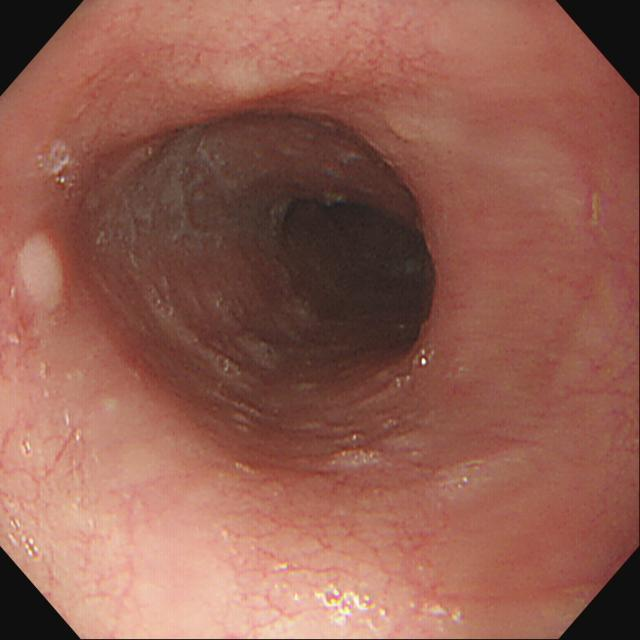A: (158, 40, 431, 125), (236, 459, 425, 553)
E: (280, 195, 437, 351)
J: (96, 132, 228, 255), (16, 235, 69, 321)
T: (317, 585, 388, 623)
U: (38, 141, 81, 204)
